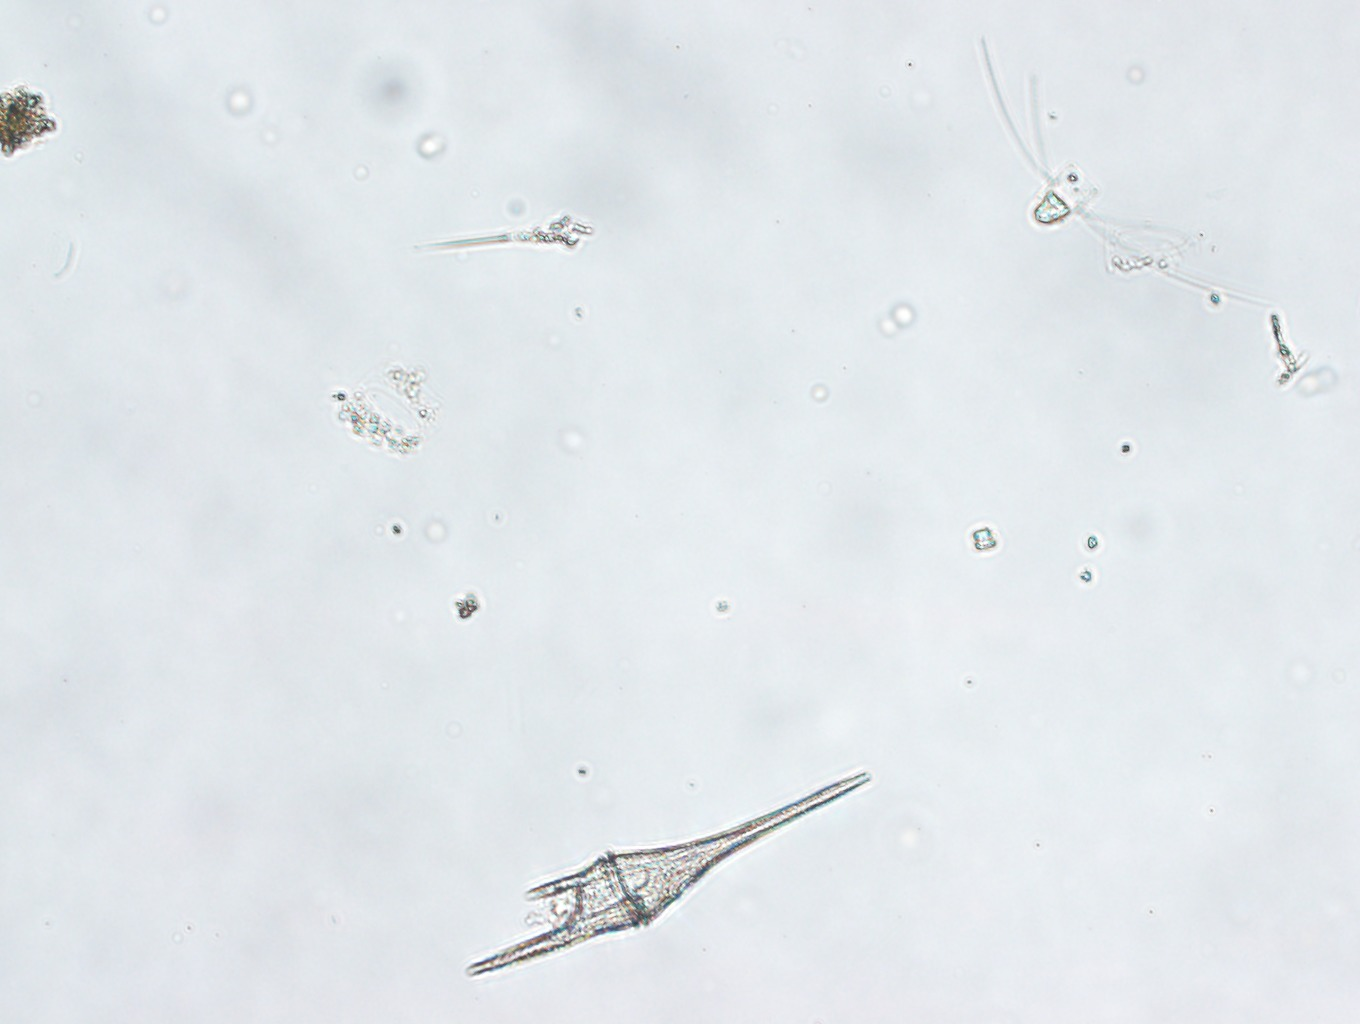ceratium furca: (462, 770, 876, 977)
chaetoceros: (980, 35, 1285, 313)
